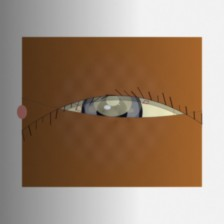corneal_ulcer: (82, 78, 144, 127)
